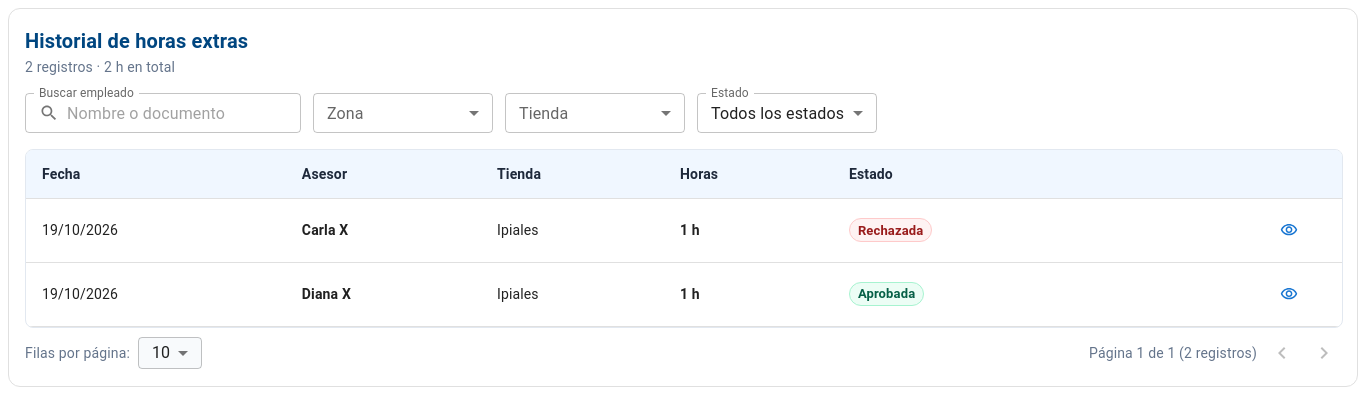
it: HistorialPage › busca por nombre o por documento
Check: the text "Diana X" is shown, box [302, 286, 351, 302]
In the field labelled "Buscar empleado": (184, 113) [67, 93, 301, 133], type "1.107.837"
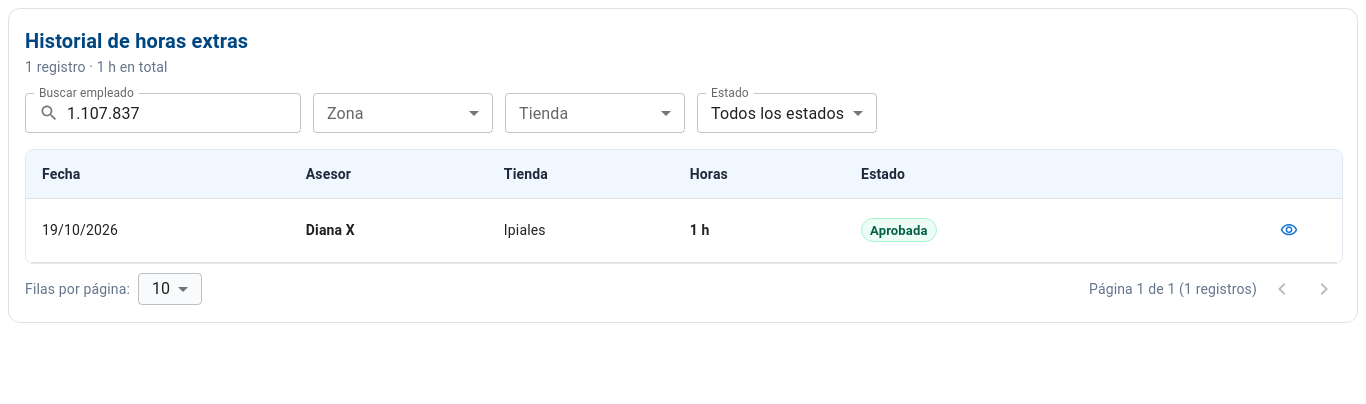
Check: the text "Diana X" is shown, box [306, 222, 355, 238]
Check: the text "Carla X" is gone
Replace the text in the field labelled "Buscar empleado" with "carla": (184, 113) [67, 93, 301, 133]
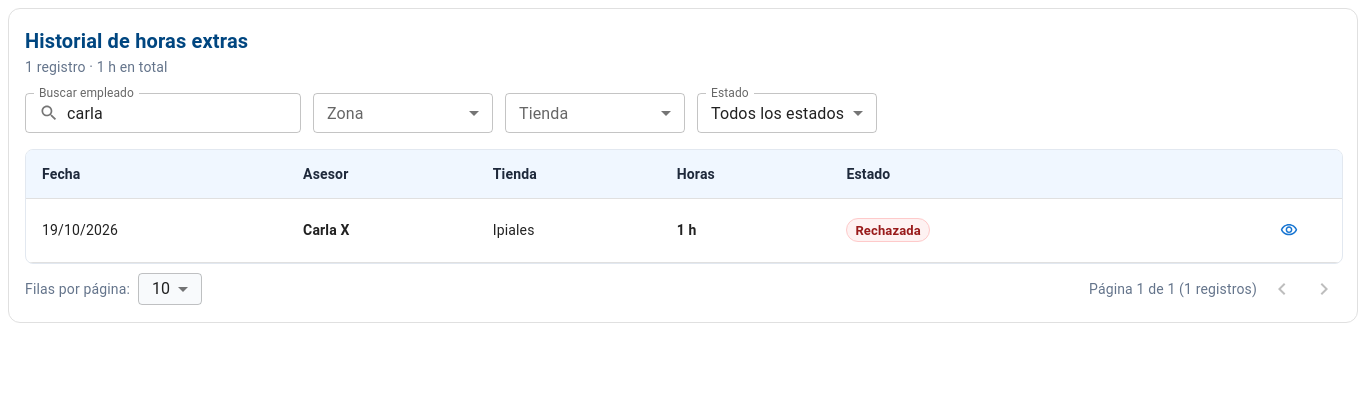
Check: the text "Carla X" is shown, box [303, 222, 350, 238]
Check: the text "Diana X" is gone
